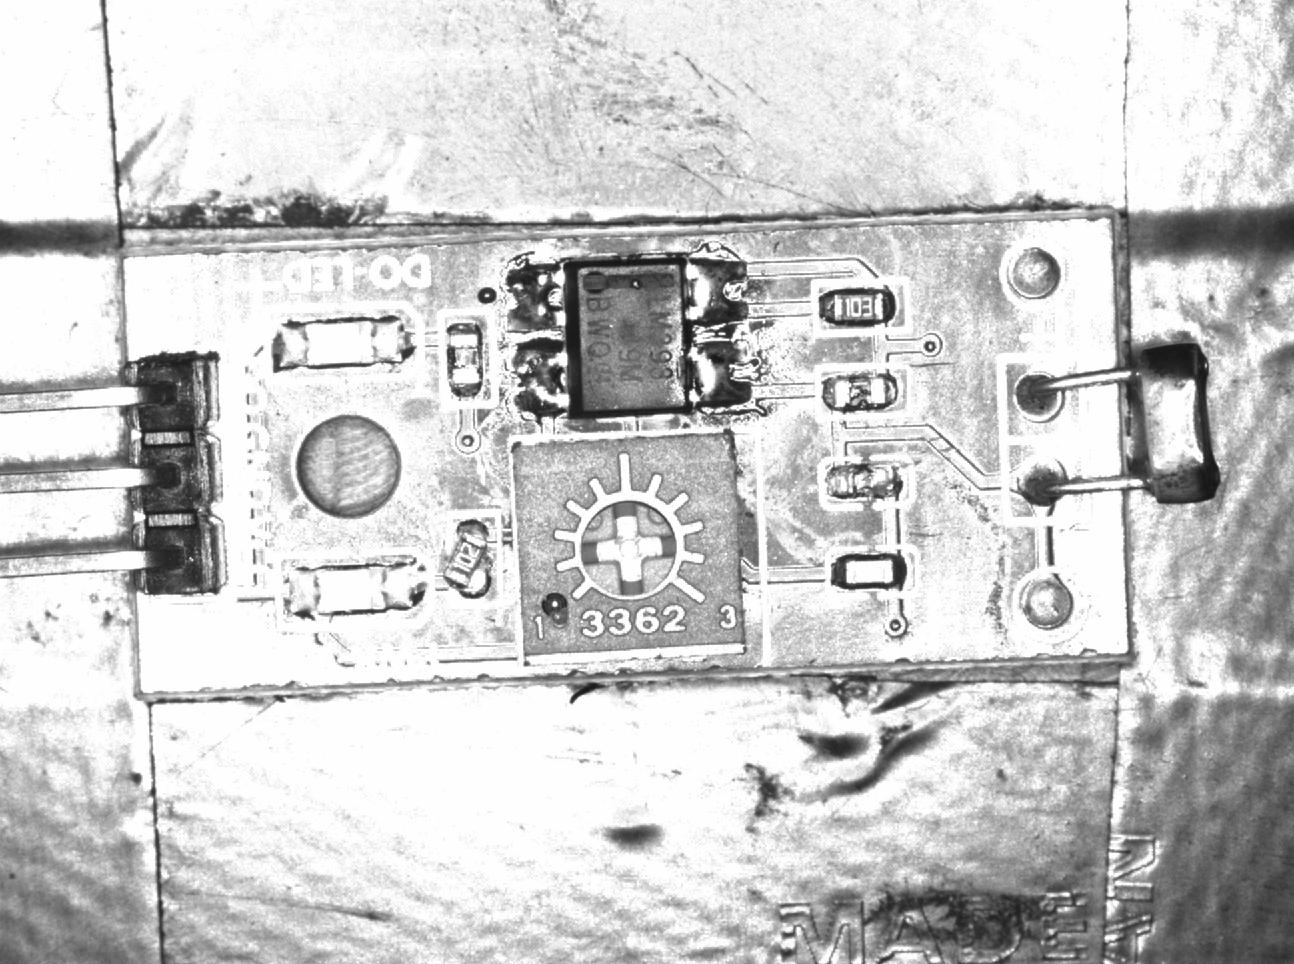bridge: (686, 248, 753, 328), (502, 257, 565, 335), (506, 339, 568, 418), (690, 340, 757, 411)
lifted: (441, 512, 501, 607)
miss: (440, 311, 496, 407), (819, 457, 914, 507), (817, 365, 909, 414)
ok: (813, 278, 910, 330), (828, 545, 918, 593)
